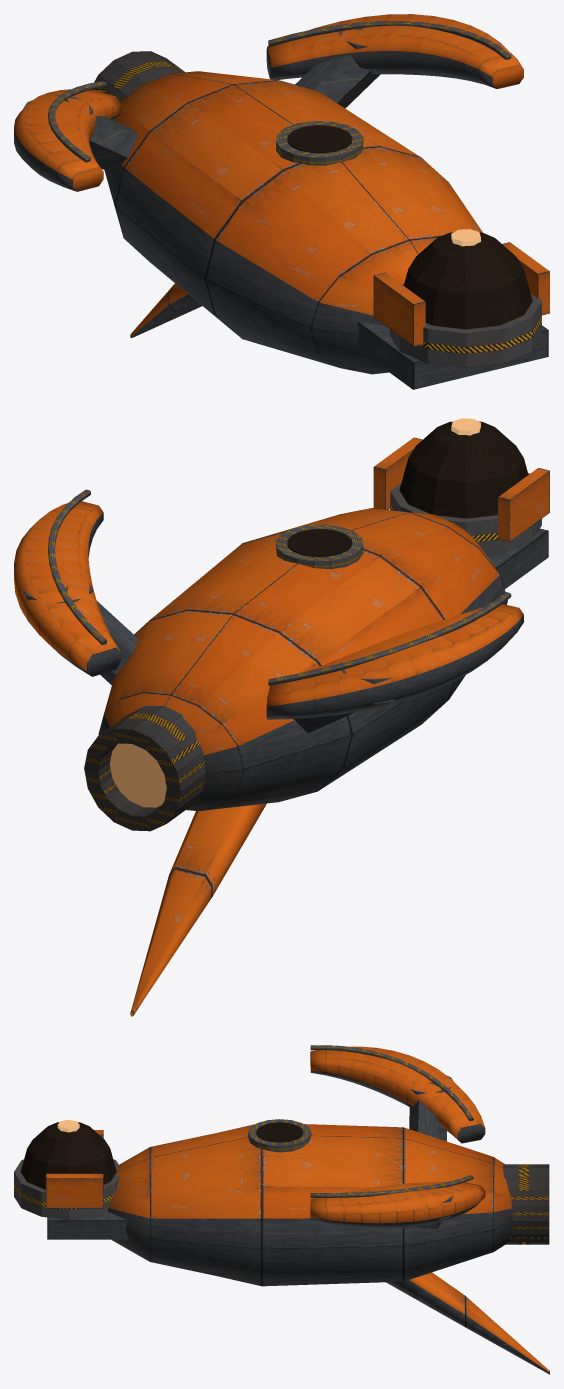
Rendered from pioneer-saturn-l02-shield.glb.
3 renders of one model, top to bottom at view 1: azimuth 30°, elevation 25°; view 2: azimuth 150°, elevation 25°; view 3: azimuth 270°, elevation 25°, orthographic. The views are drawn at different scales.
Visible parts, largest first — view 1: Drone; view 2: Drone; view 3: Drone.
Boxes of the visible parts, x1,y1,x2,y2 form: Drone: [14, 14, 549, 389]; Drone: [14, 418, 549, 1016]; Drone: [14, 1045, 549, 1374].
Size of the model in its own units: 0.9147 by 0.6652 by 1.27.
Materials: 3 (3 with a texture image).
